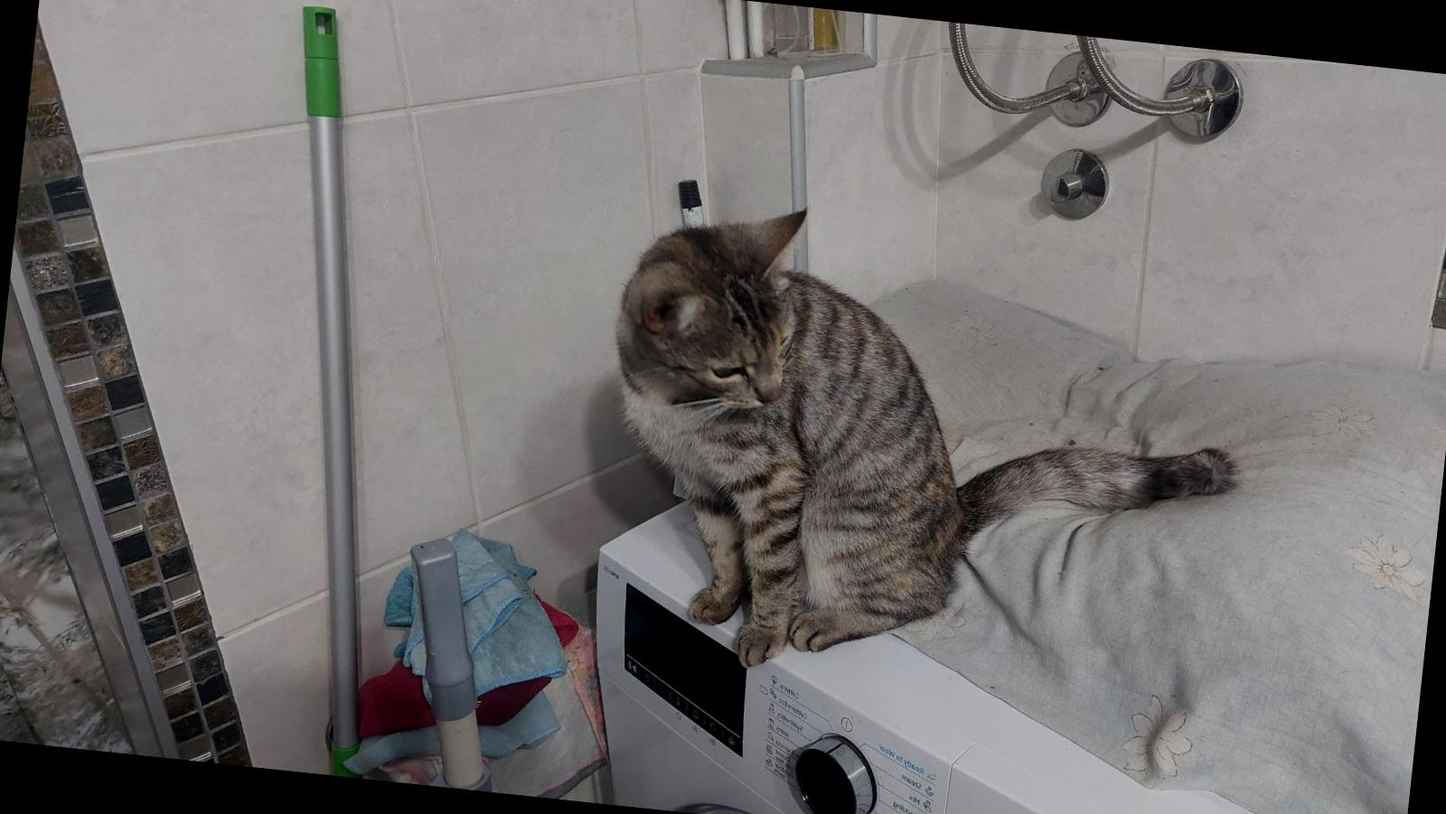macka: (579, 190, 1256, 715)
